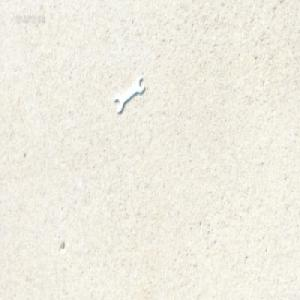Wrench: (113, 77, 144, 113)
